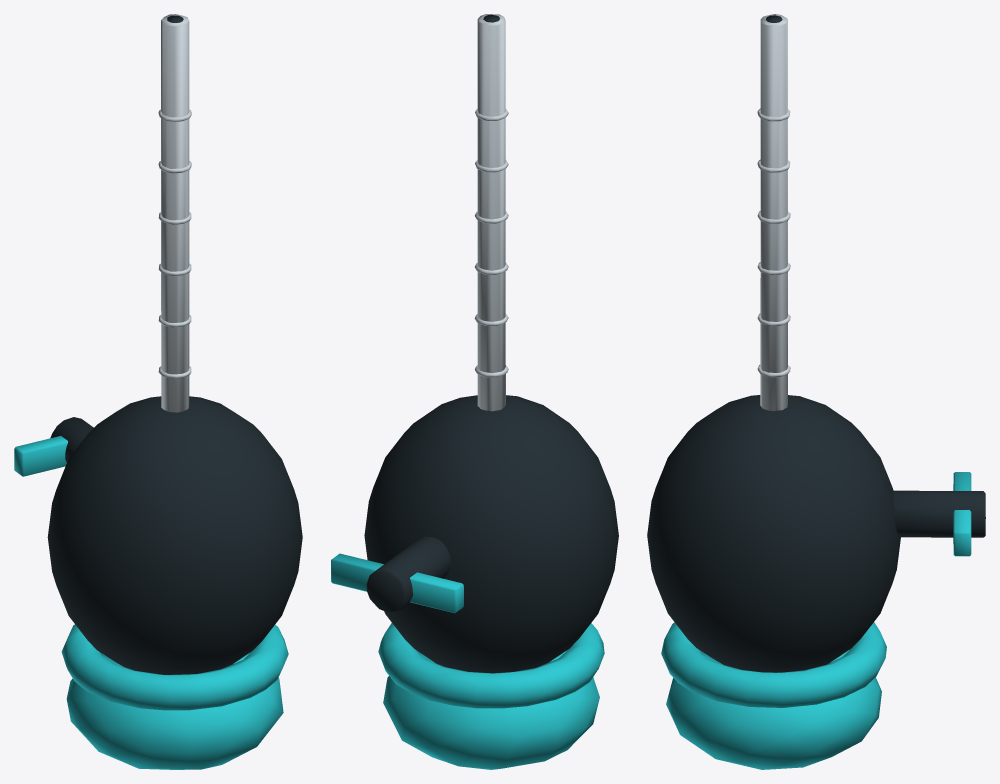
Rendered from inst_trocar_5mm.fbx.
3 views of the same model, side by side, from view 1: azimuth 30°, elevation 25°; view 2: azimuth 150°, elevation 25°; view 3: azimuth 270°, elevation 25° (orthographic).
Visible parts, largest first — view 1: inst_trocar_5mm_Geometry, Obturator_Geometry; view 2: inst_trocar_5mm_Geometry, Obturator_Geometry; view 3: inst_trocar_5mm_Geometry, Obturator_Geometry.
Boxes of the visible parts, x1,y1,x2,y2 form: inst_trocar_5mm_Geometry: [14, 14, 302, 710]; Obturator_Geometry: [66, 652, 283, 769]; inst_trocar_5mm_Geometry: [331, 14, 618, 708]; Obturator_Geometry: [383, 650, 599, 769]; inst_trocar_5mm_Geometry: [647, 14, 985, 707]; Obturator_Geometry: [666, 650, 881, 769].
Size of the model in its own units: 0.054 by 0.1721 by 0.072.
